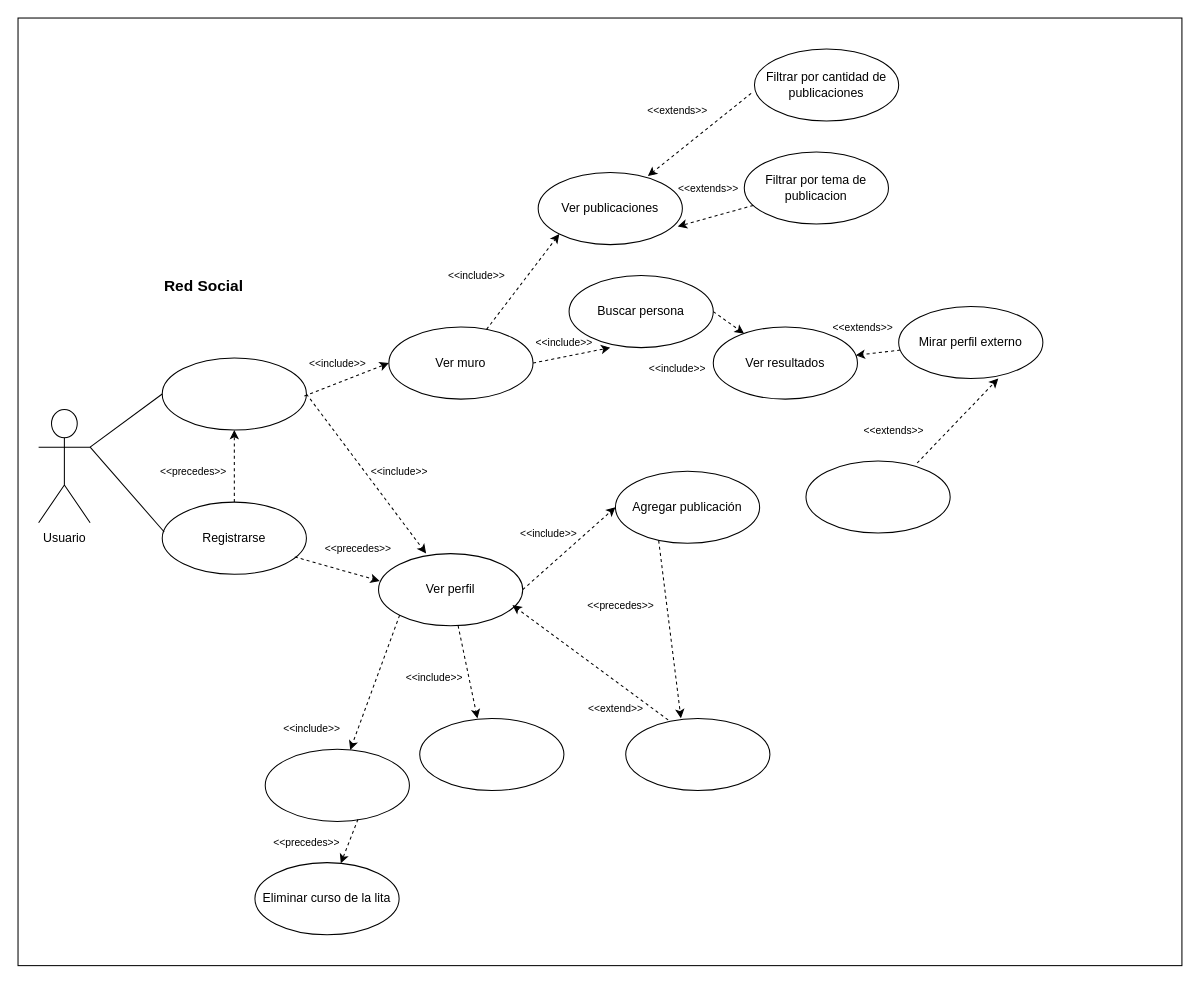
This 1200x984 diagram has some shape labels left out. The centre of each missing label's shape, as x and y in pixels:
"Agregar curso de la lista" goes at (336,784).
"Dar follow al usuario" goes at (877,496).
"Editar perfil" goes at (491,754).
"Eliminar publicación" goes at (697,754).
"Iniciar sesión" goes at (233,393).
